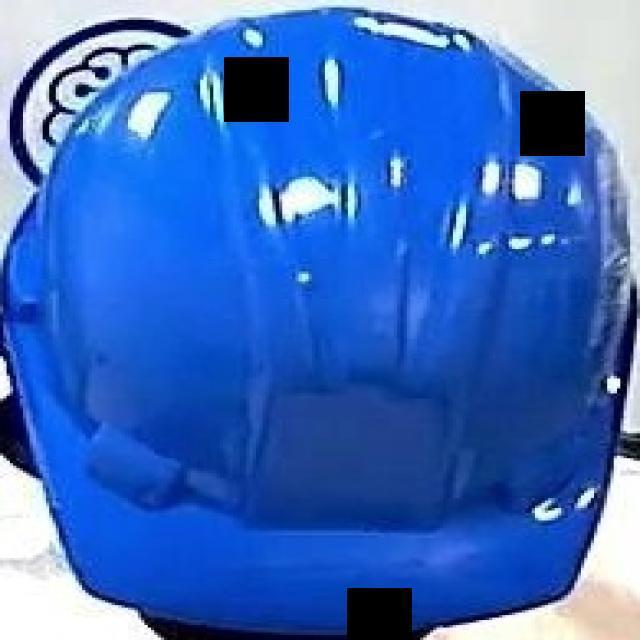blue helmet: (6, 9, 638, 625)
